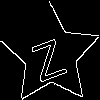Z: (25, 29, 68, 83)
